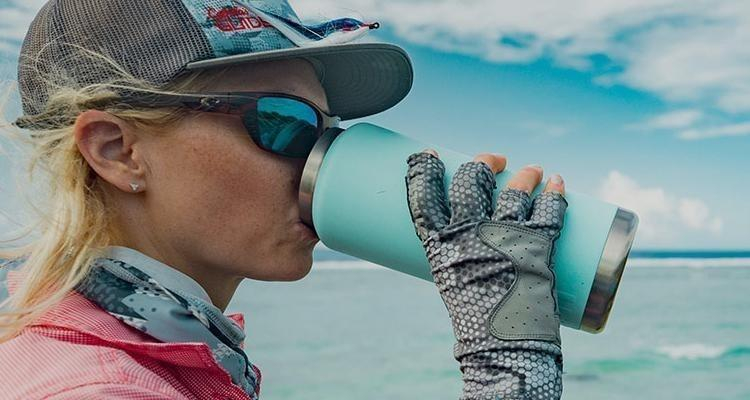gym bottle: (297, 123, 639, 340)
